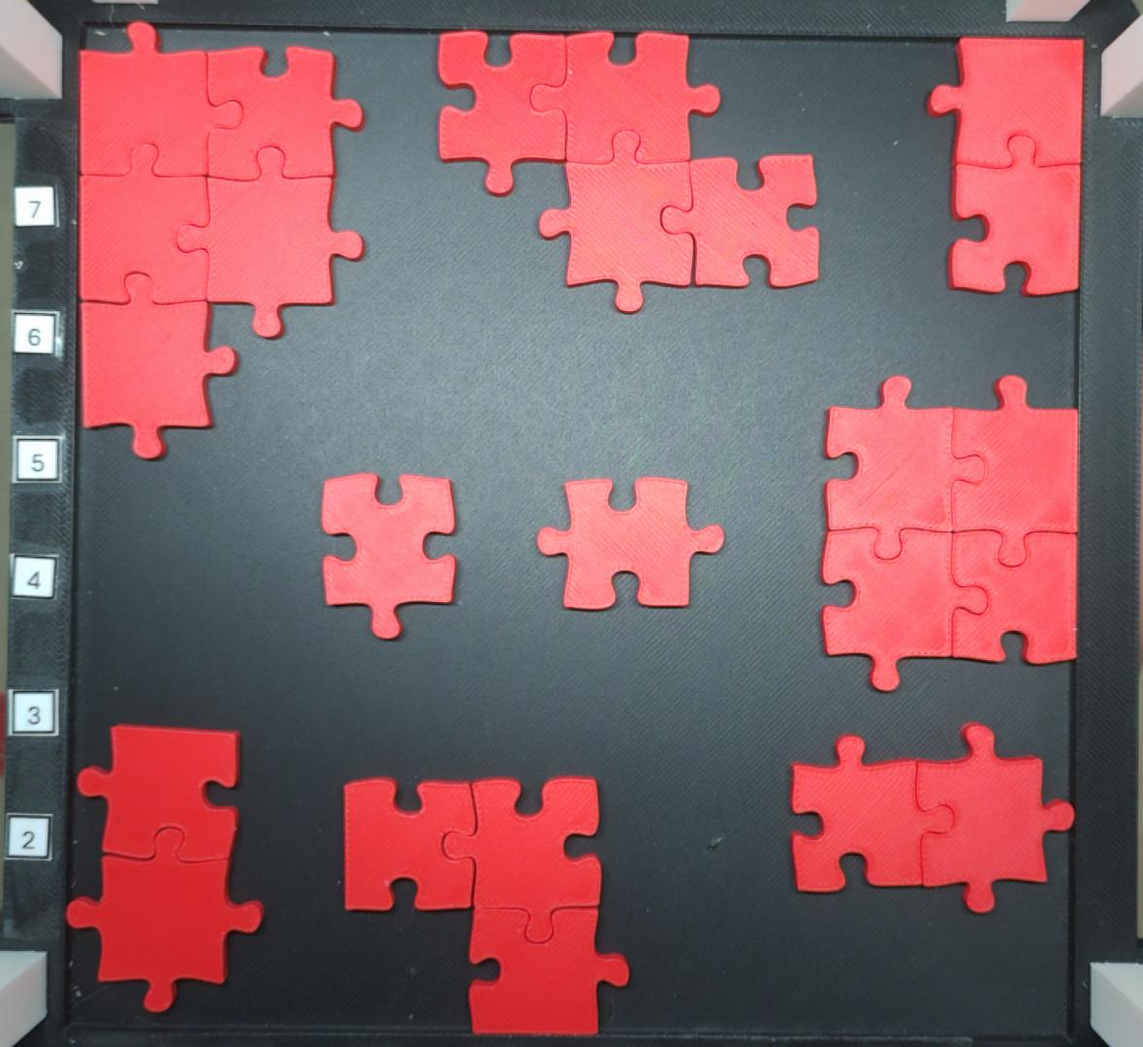p_1: (539, 475, 723, 611), (322, 472, 461, 641)
p_2: (69, 723, 270, 1017), (787, 723, 1077, 913), (923, 34, 1089, 298)
p_3: (340, 776, 631, 1037)
p_4: (437, 28, 823, 320), (818, 375, 1080, 693)
p_m: (79, 20, 365, 458)
